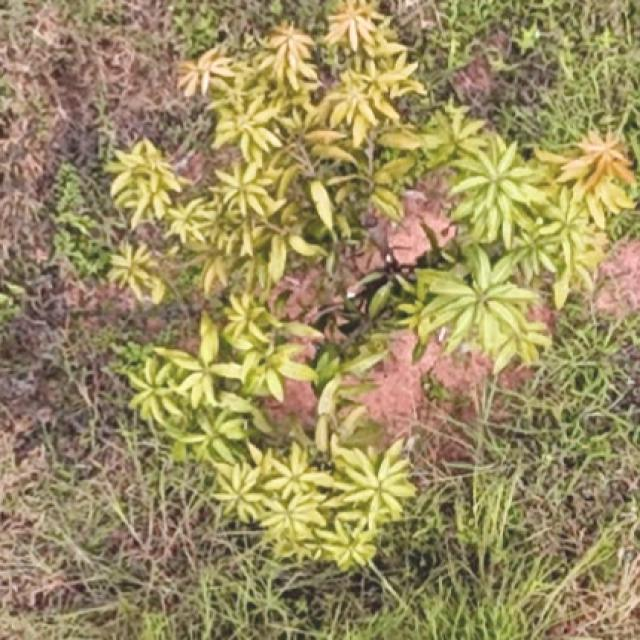mangoTree: (98, 0, 638, 567)
